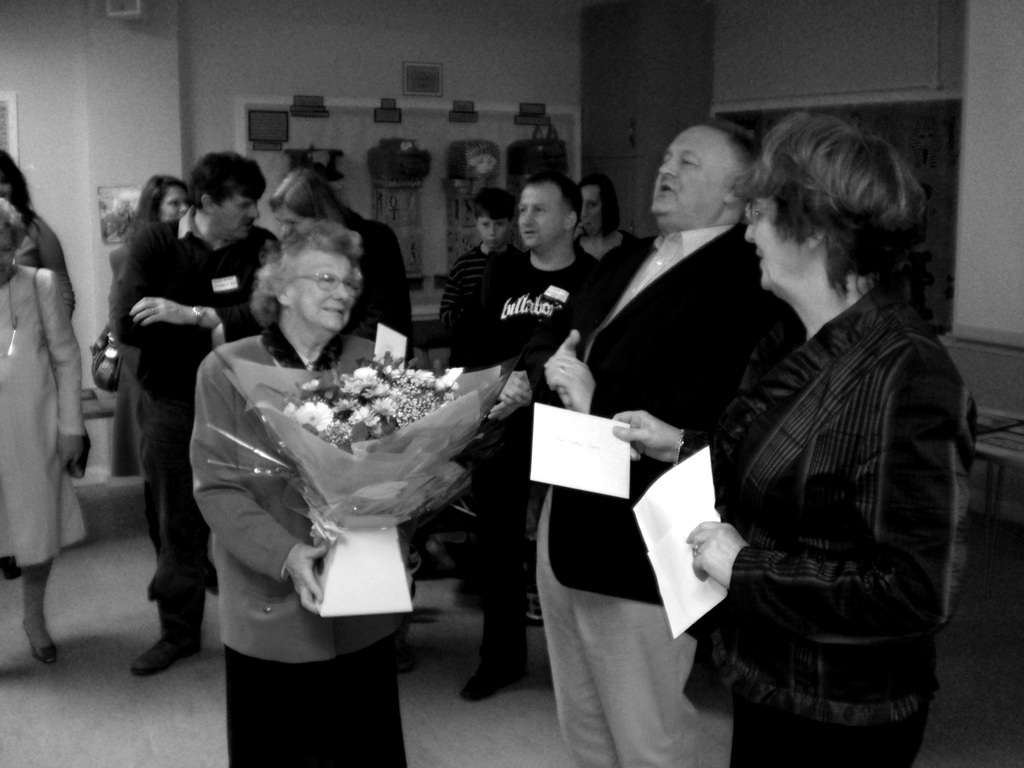Human_hand: (594, 405, 693, 474), (686, 518, 752, 588), (543, 355, 598, 413), (288, 539, 328, 617), (129, 294, 191, 330), (555, 328, 582, 408), (498, 369, 534, 409), (55, 433, 84, 474), (490, 401, 516, 422)
